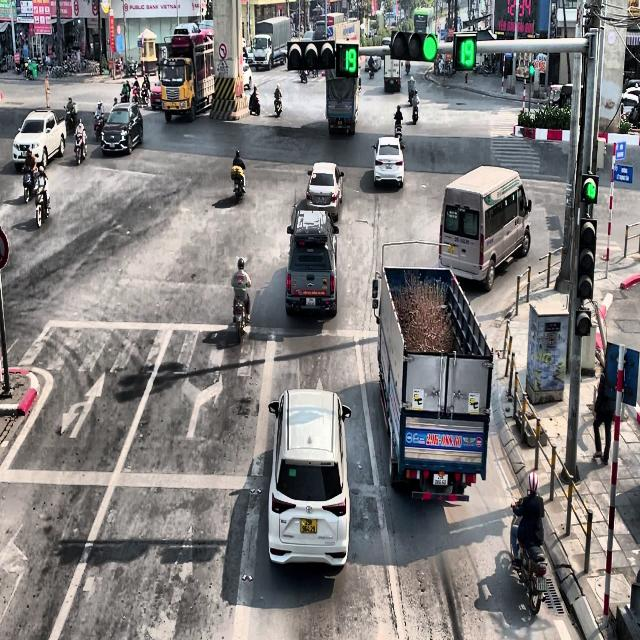lisence_plate: (404, 428, 484, 451), (300, 516, 318, 535), (432, 472, 448, 487), (454, 234, 471, 246), (304, 296, 316, 307), (447, 244, 455, 252), (318, 195, 325, 204), (386, 163, 393, 170), (337, 120, 343, 127), (390, 81, 394, 85)
